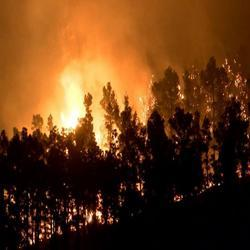fire: (57, 107, 84, 129)
